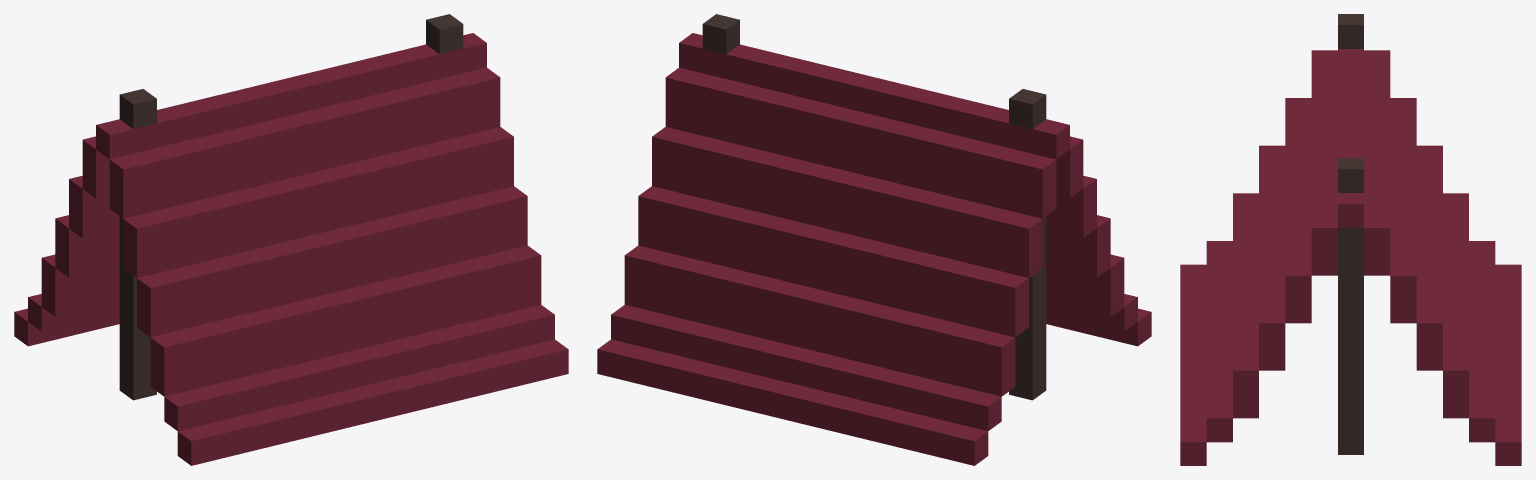
File: tent.glb
3 views of the same model, side by side, from view 1: azimuth 30°, elevation 25°; view 2: azimuth 150°, elevation 25°; view 3: azimuth 270°, elevation 25° (orthographic). The views are drawn at different scales.
Parts seen in each view (by area): view 1: tent; view 2: tent; view 3: tent.
Part boxes in pixels (x1=…): tent: x1=14, y1=14, x2=568, y2=465; tent: x1=597, y1=14, x2=1151, y2=465; tent: x1=1180, y1=14, x2=1521, y2=465.
Size of the model in its own units: 16 by 12 by 13.
1 material, 1 textured.
